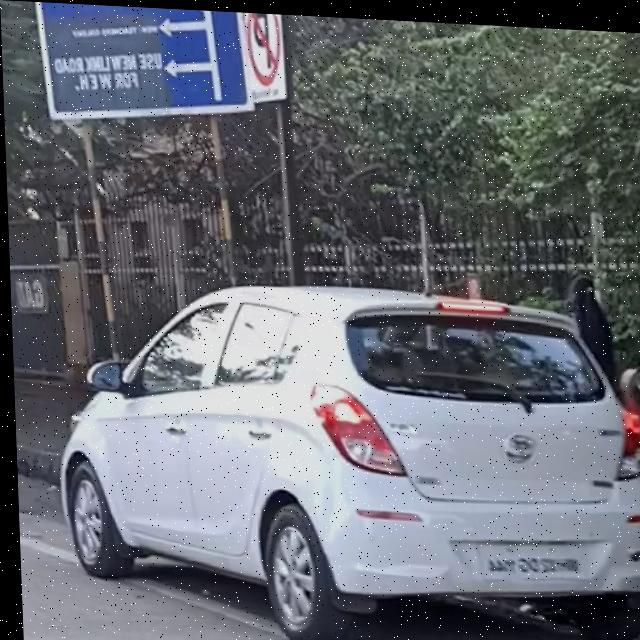plate: (477, 541, 582, 578)
